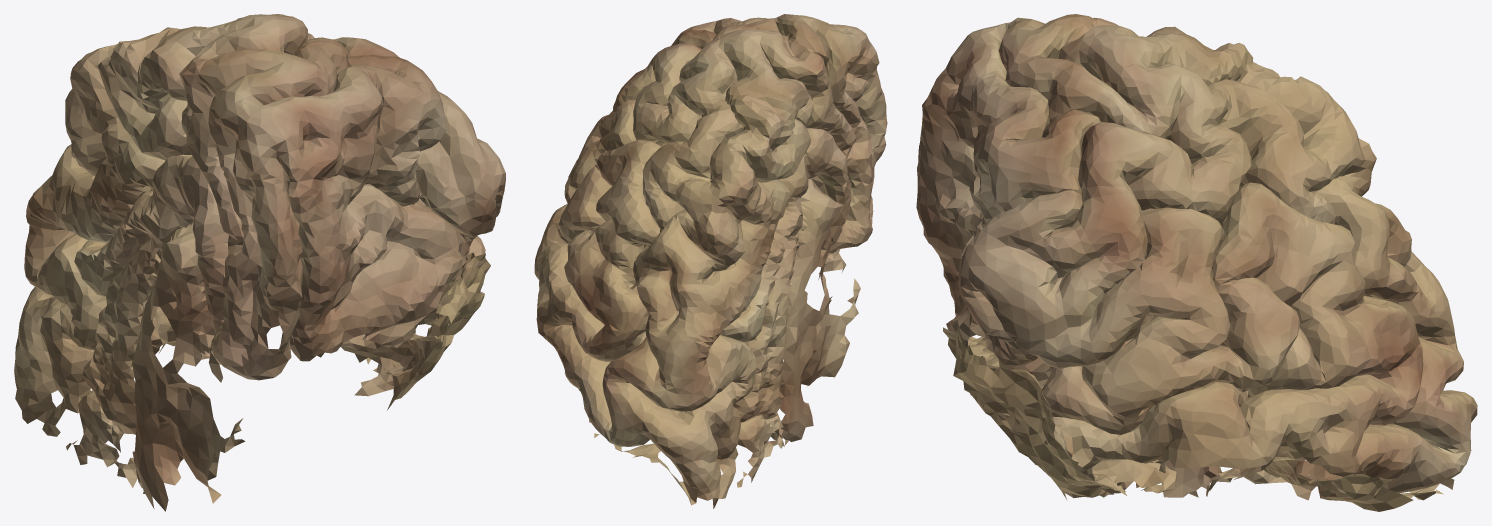
Rendered from L_Frontal_Lobe.obj.
3 views of the same model, side by side, from view 1: azimuth 30°, elevation 25°; view 2: azimuth 150°, elevation 25°; view 3: azimuth 270°, elevation 25° (orthographic). The views are drawn at different scales.
Parts seen in each view (by area): view 1: L_Frontal_Lobe_R_Cortex_textured.003; view 2: L_Frontal_Lobe_R_Cortex_textured.003; view 3: L_Frontal_Lobe_R_Cortex_textured.003.
Part boxes in pixels (x1=…): L_Frontal_Lobe_R_Cortex_textured.003: x1=14, y1=14, x2=505, y2=511; L_Frontal_Lobe_R_Cortex_textured.003: x1=534, y1=14, x2=887, y2=508; L_Frontal_Lobe_R_Cortex_textured.003: x1=916, y1=14, x2=1477, y2=511.
Size of the model in its own units: 256 by 367 by 366.
